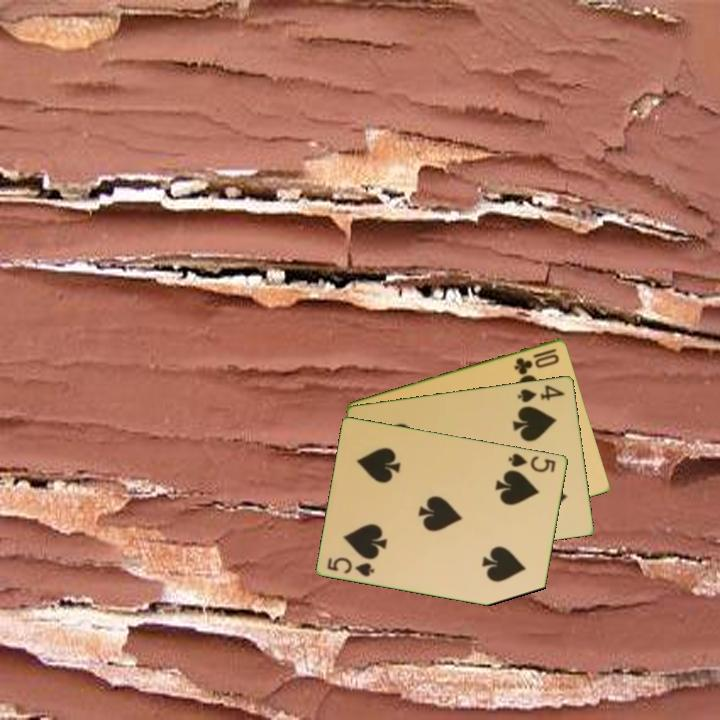10c: (511, 345, 562, 376)
4s: (514, 381, 568, 405)
5s: (505, 449, 559, 475), (324, 553, 378, 579)
